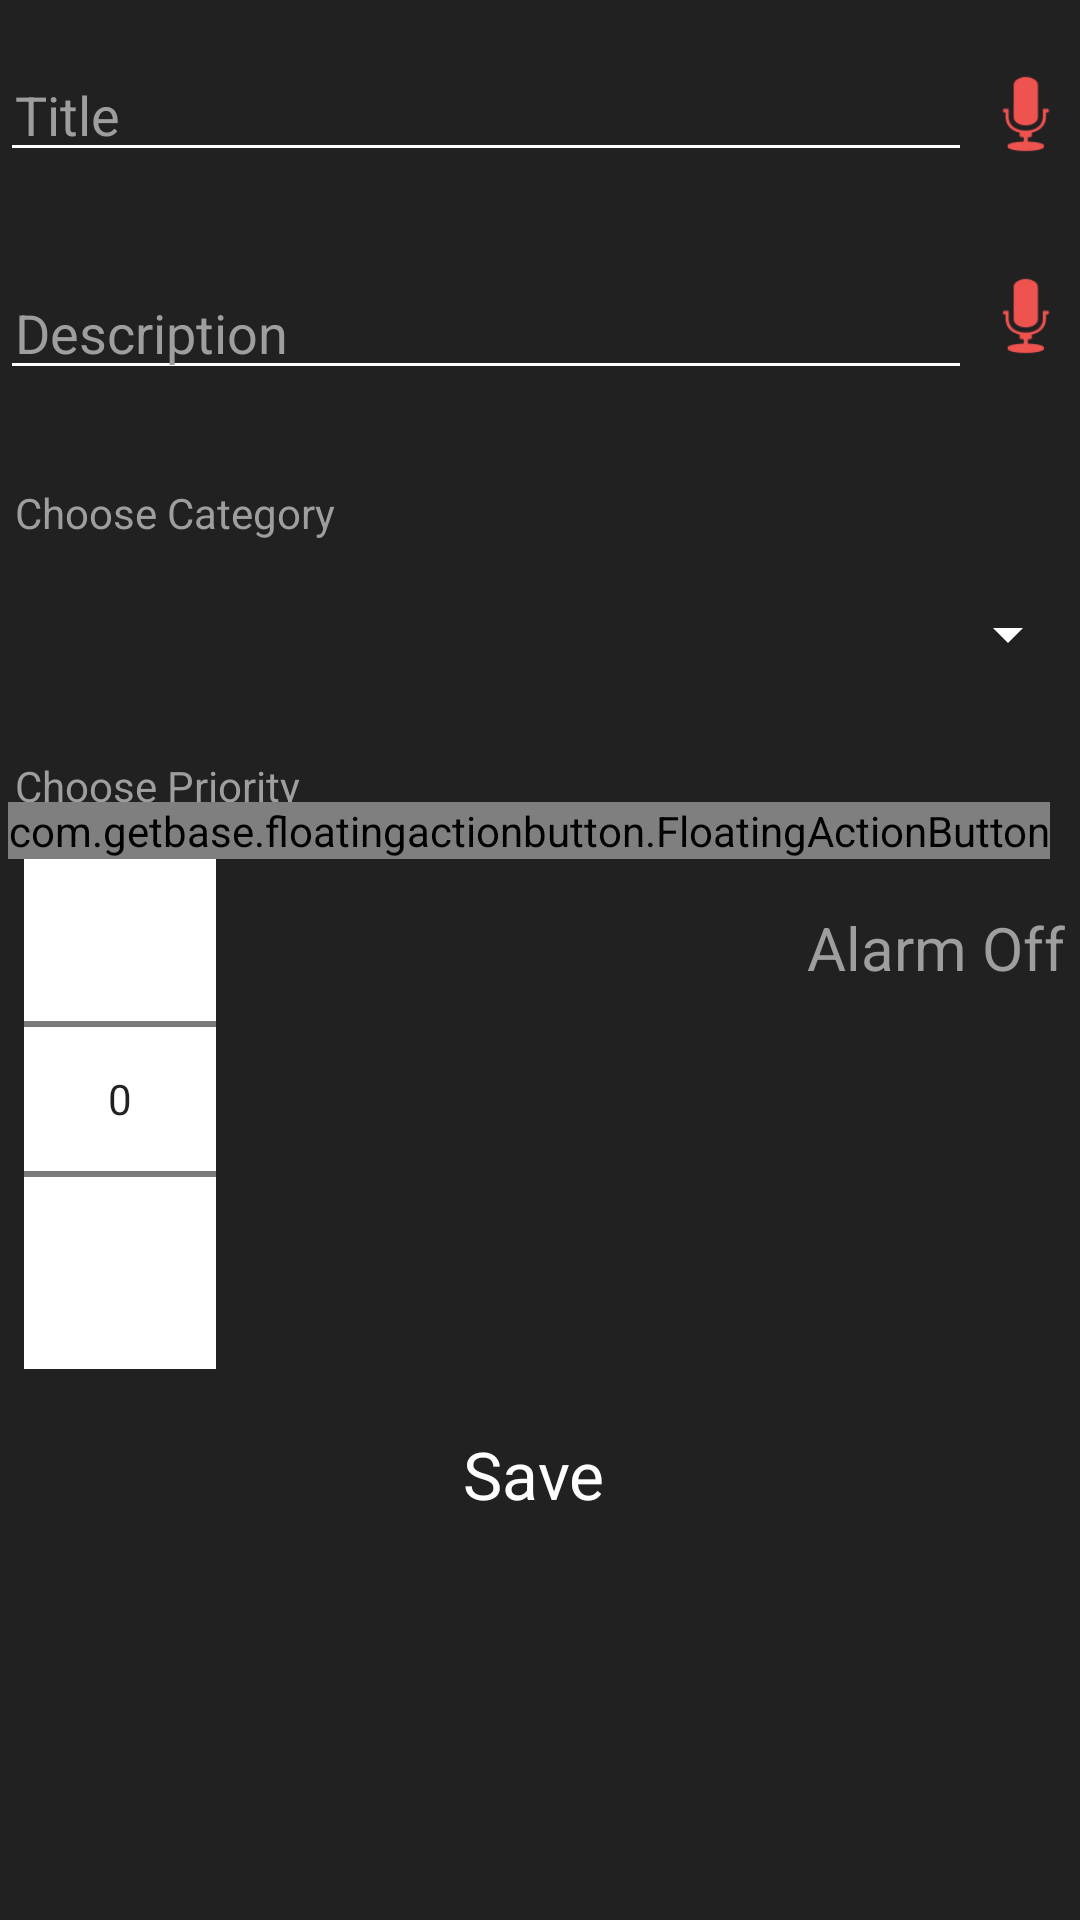

Locate icon controls on the screen. Image size 1080x1920, boxes as [x1=x1, y1=y1, x2=x2, y2=y2].
speak now: [x1=1002, y1=76, x2=1050, y2=152], [x1=1002, y1=278, x2=1050, y2=354]
